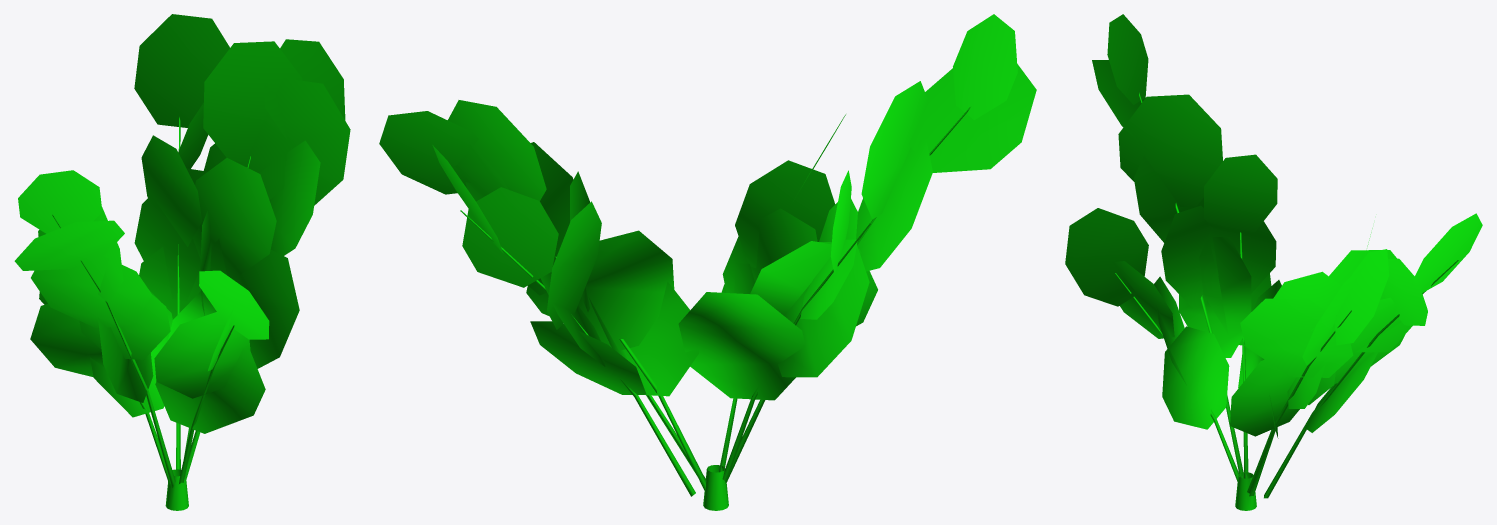
File: shrub_b.glb
3 views of the same model, side by side, from view 1: azimuth 30°, elevation 25°; view 2: azimuth 150°, elevation 25°; view 3: azimuth 270°, elevation 25° (orthographic). The views are drawn at different scales.
Visible parts, largest first — view 1: shrub_b.1, shrub_b.0; view 2: shrub_b.1, shrub_b.0; view 3: shrub_b.1, shrub_b.0.
Part boxes in pixels (bbox=[...]): shrub_b.1: bbox=[14, 14, 350, 433]; shrub_b.0: bbox=[52, 117, 250, 510]; shrub_b.1: bbox=[379, 14, 1036, 400]; shrub_b.0: bbox=[460, 107, 970, 510]; shrub_b.1: bbox=[1065, 14, 1482, 438]; shrub_b.0: bbox=[1115, 92, 1458, 510].
Size of the model in its own units: 3.15 by 2.87 by 2.69.
